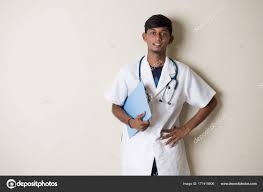Indian_Male: (146, 16, 176, 55)
